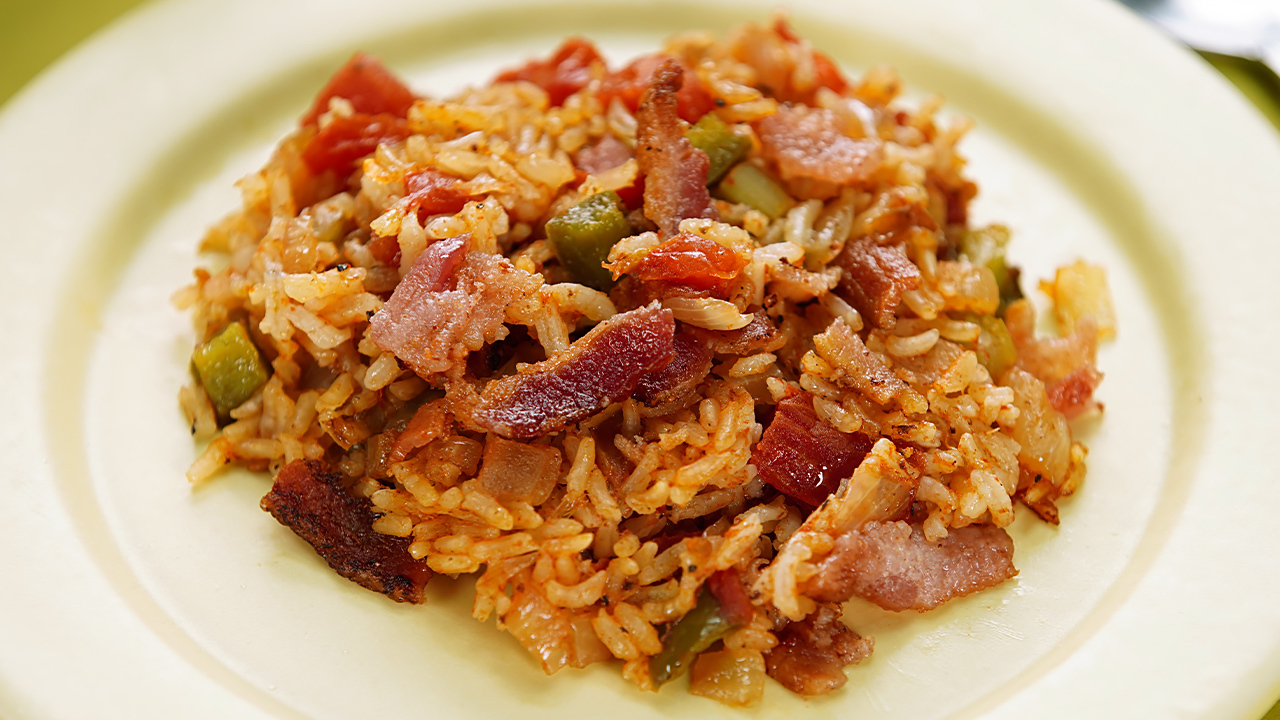Nasi Merah: (148, 7, 1169, 720)
